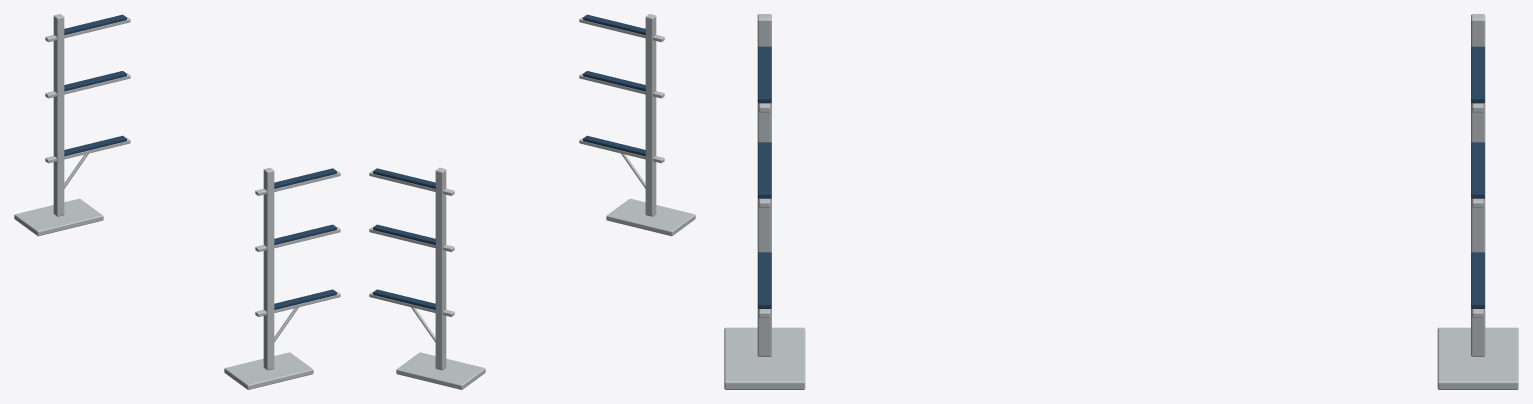
The model's file is rowing-boathouse-and-regatta-course-shell-storage-rack-12c64537__32127.glb.
The picture shows the model from 3 angles, left to right: view 1: azimuth 30°, elevation 25°; view 2: azimuth 150°, elevation 25°; view 3: azimuth 270°, elevation 25°; orthographic projection. The views are drawn at different scales.
Visible parts, largest first — view 1: shell-storage-rack; view 2: shell-storage-rack; view 3: shell-storage-rack.
Boxes of the visible parts, box(x1,y1,x2,y2) form: shell-storage-rack: box(14, 14, 340, 389); shell-storage-rack: box(369, 14, 695, 389); shell-storage-rack: box(724, 14, 1518, 389).
Size of the model in its own units: 1.25 by 2.36 by 4.9.
